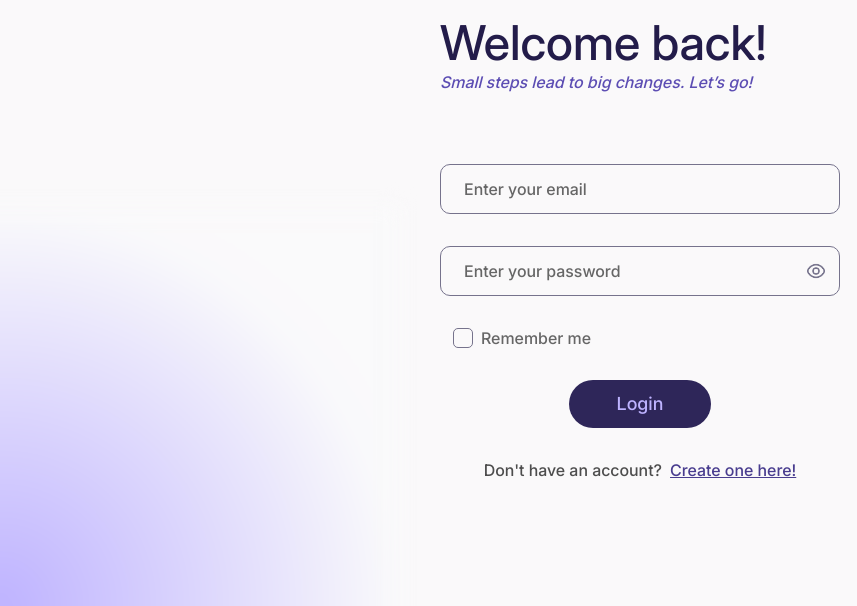
Test: Login Page Frontend Validations › should show validation message if password is missing
The width and height of the screenshot is (857, 606).
Type "huba.trifusz@gmail.com" into the field with test id "email_text_input".
click(640, 189); type("huba.trifusz@gmail.com")  # box left=440, top=164, right=840, bottom=214
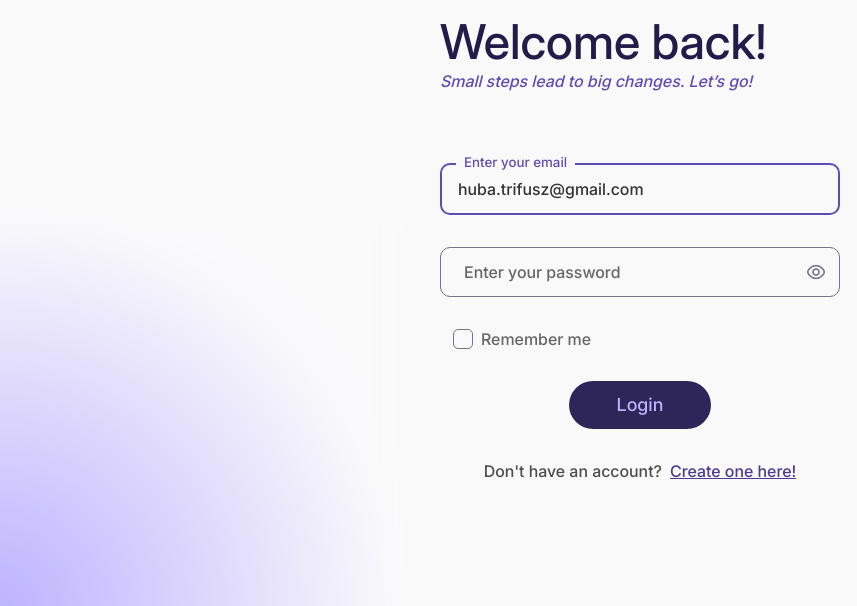
Click the button with test id "login_button".
click(641, 405)  # box left=569, top=381, right=712, bottom=429
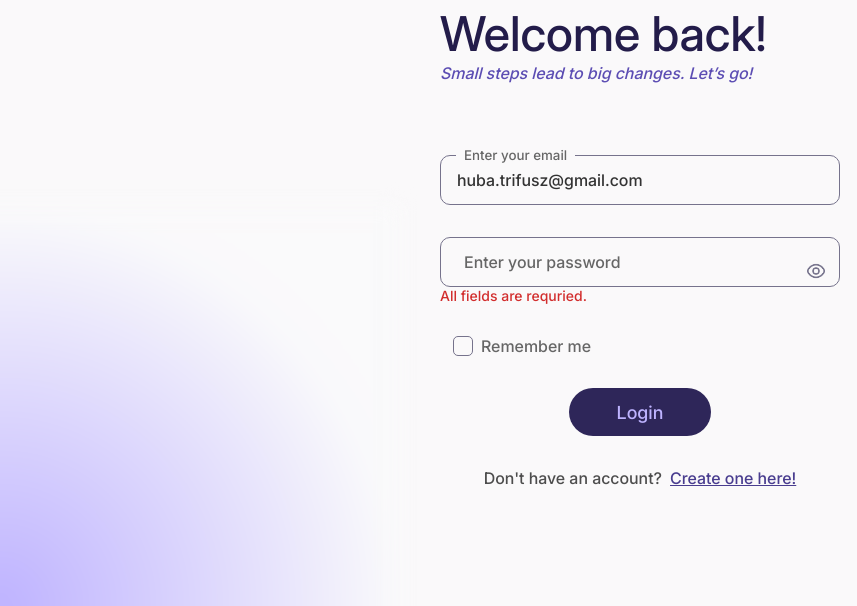
Check: the element showing "All fields are requried." is shown, box left=440, top=287, right=587, bottom=304
